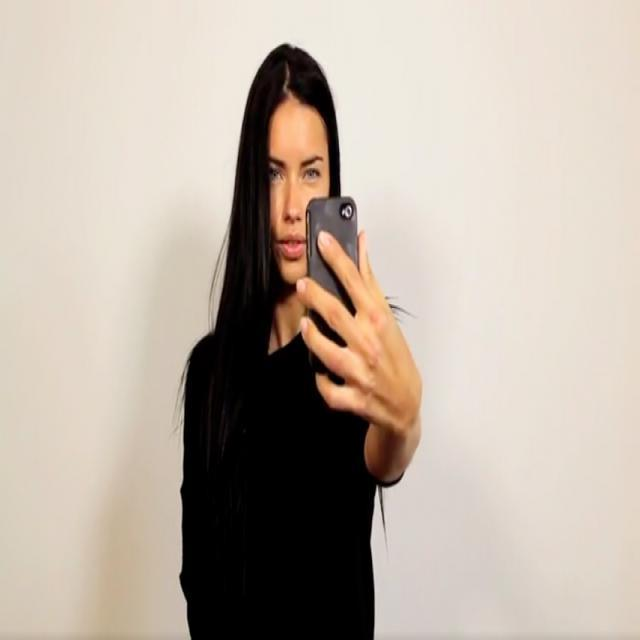mobile: (305, 195, 357, 356)
